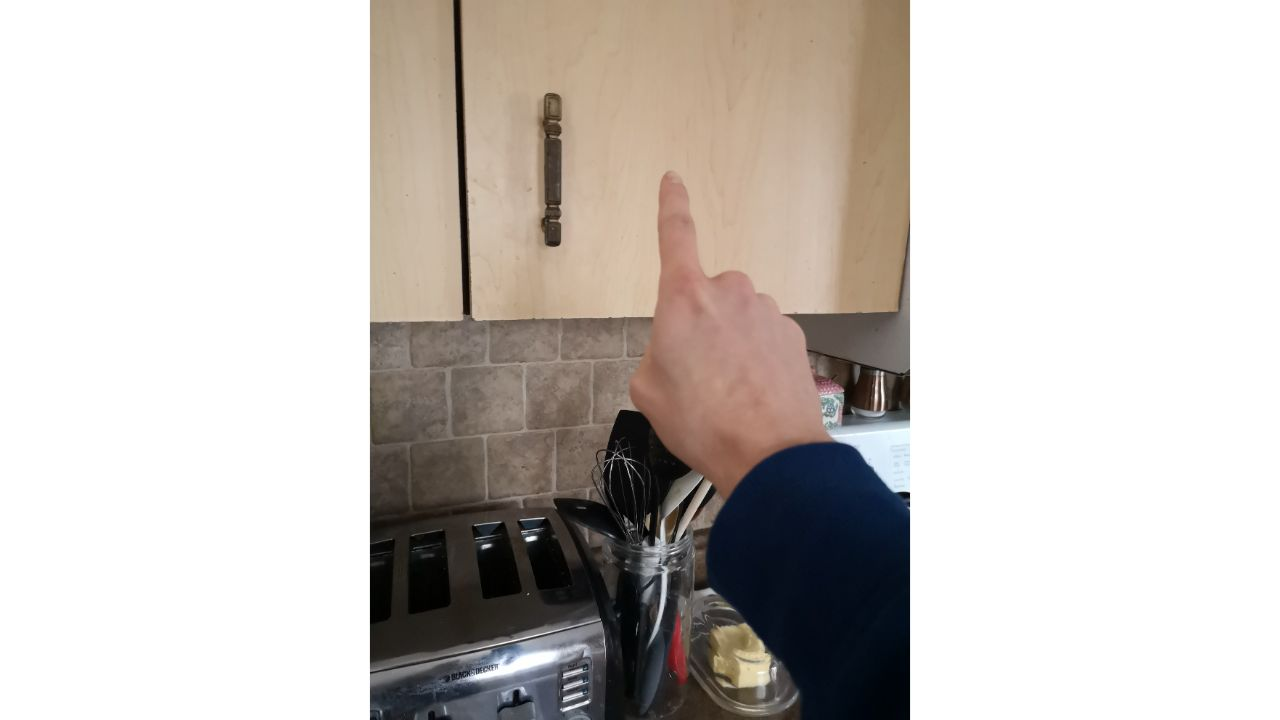finger: (627, 167, 844, 488)
